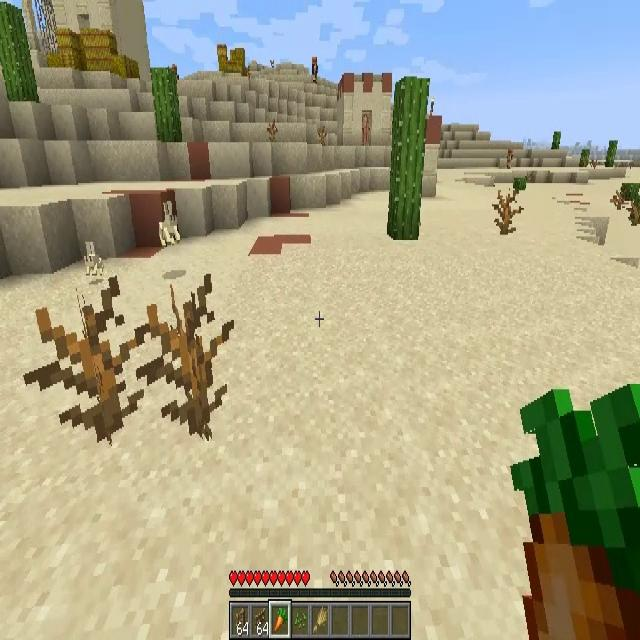rabbit: (160, 200, 183, 248), (84, 244, 104, 282)
